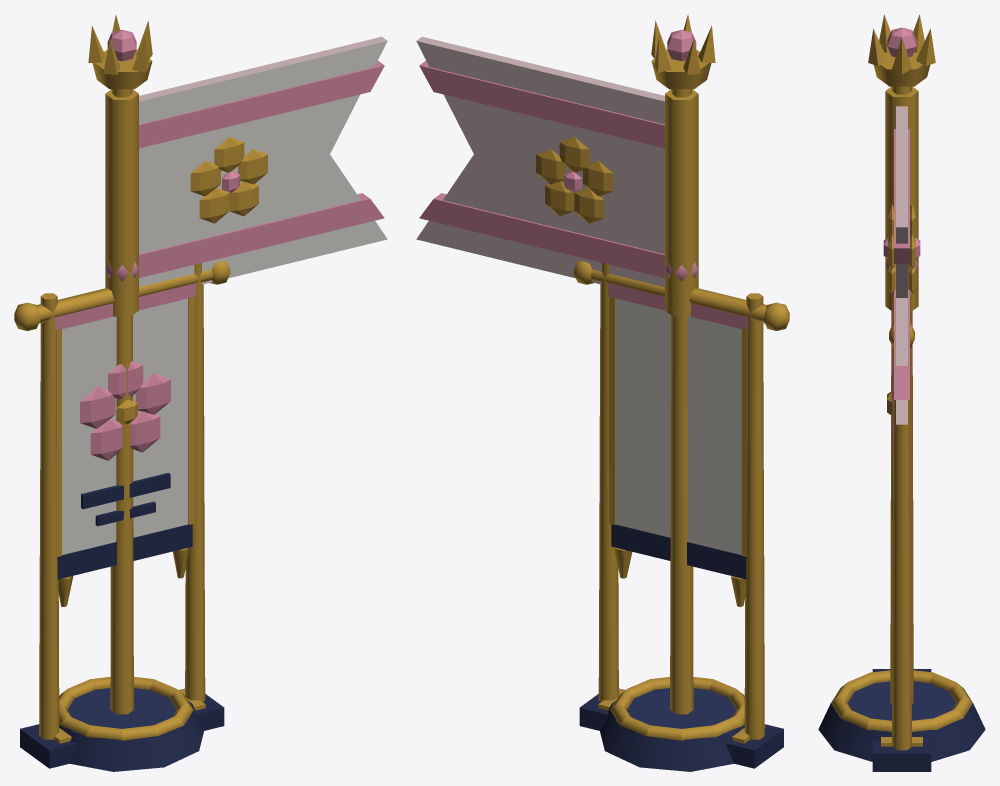
File: ouka_banners.glb
The picture shows the model from 3 angles, left to right: view 1: azimuth 30°, elevation 25°; view 2: azimuth 150°, elevation 25°; view 3: azimuth 270°, elevation 25°; orthographic projection.
Visible parts, largest first — view 1: banner_flag, office_flag, banner_pole, office_stand; view 2: banner_flag, office_flag, banner_pole, office_stand; view 3: banner_pole, banner_flag, office_stand, office_flag.
Boxes of the visible parts, box(x1,y1,x2,y2) form: banner_flag: box(105, 36, 387, 316); office_flag: box(55, 283, 195, 606); banner_pole: box(59, 14, 203, 771); office_stand: box(14, 261, 230, 768); banner_flag: box(416, 36, 698, 316); office_flag: box(608, 283, 748, 606); banner_pole: box(600, 14, 744, 771); office_stand: box(573, 261, 789, 768); banner_pole: box(818, 14, 985, 761); banner_flag: box(883, 86, 920, 424); office_stand: box(872, 260, 931, 771); office_flag: box(887, 359, 893, 585).
Size of the model in its own units: 0.508 by 0.93 by 0.2.
